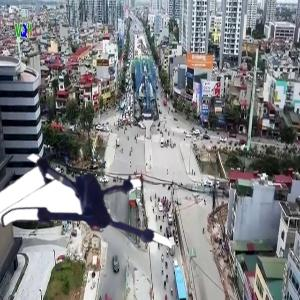drone: (11, 130, 176, 295)
